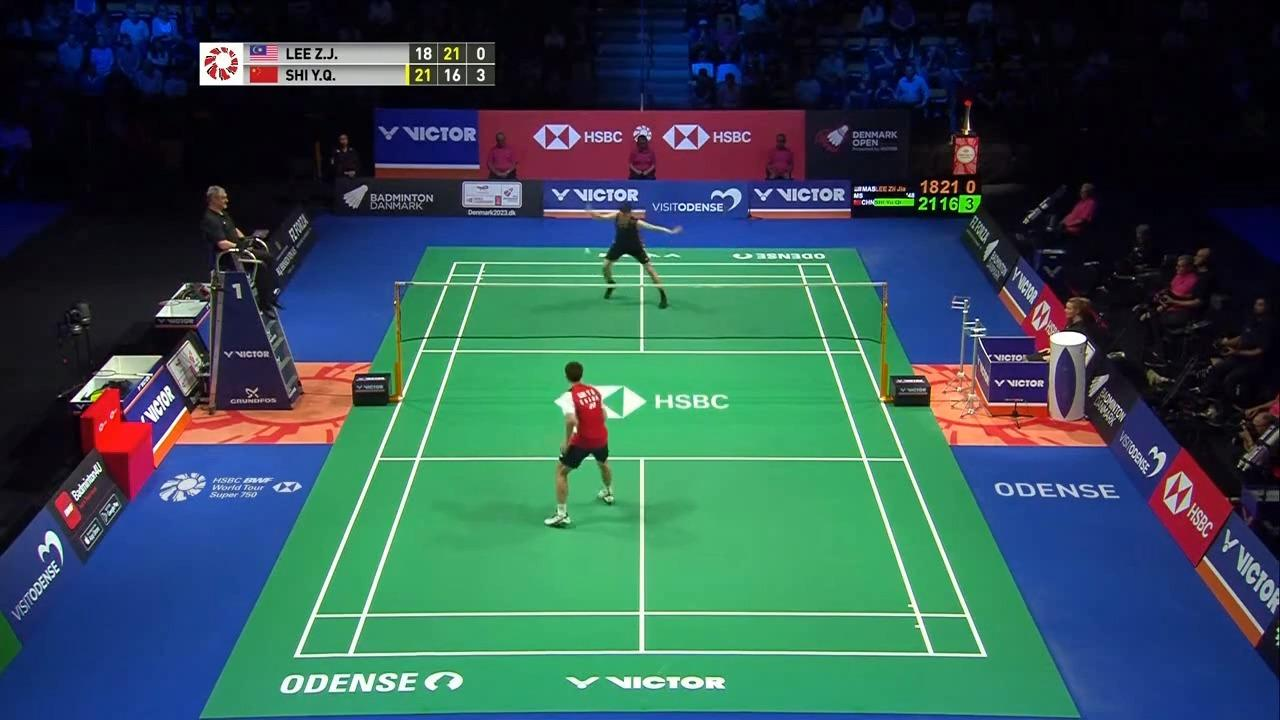shuttle: (582, 246, 595, 257)
